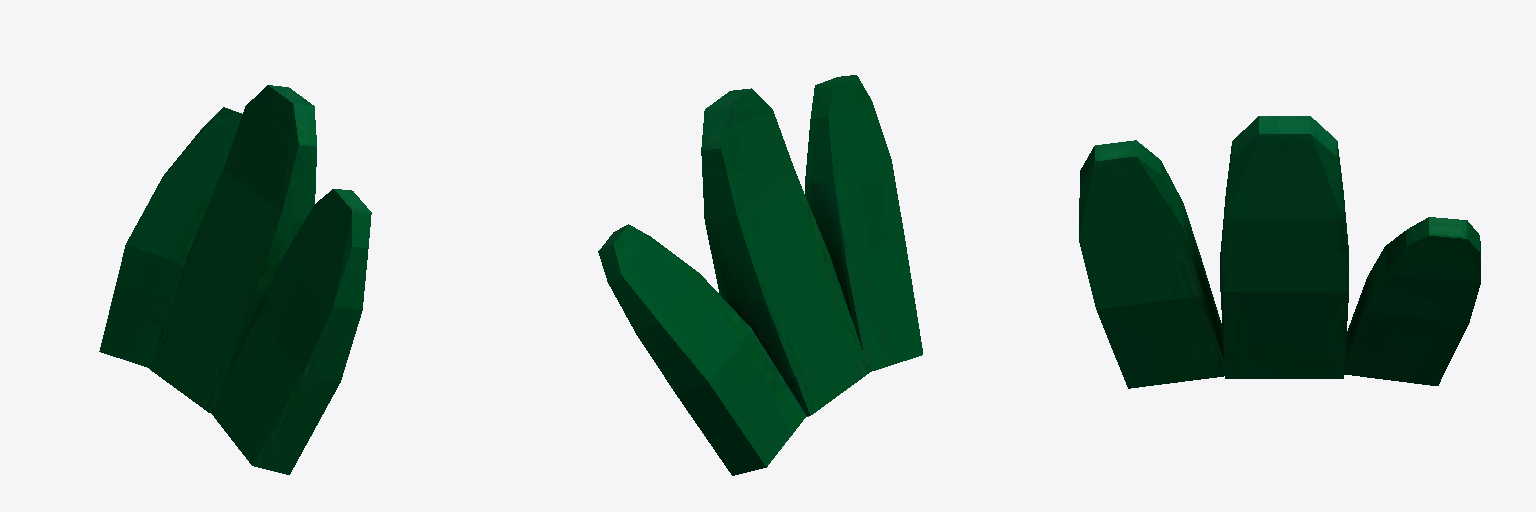
The picture shows the model from 3 angles: view 1: azimuth 30°, elevation 25°; view 2: azimuth 150°, elevation 25°; view 3: azimuth 270°, elevation 25°; orthographic projection.
Visible parts, largest first — view 1: FOL_Grass_01; view 2: FOL_Grass_01; view 3: FOL_Grass_01.
Part boxes in pixels (x1,y1,x2,y2): FOL_Grass_01: (99,85,371,474); FOL_Grass_01: (598,75,922,475); FOL_Grass_01: (1079,116,1480,388).
Bounding box in the file's own units: 0.4443 × 0.8179 × 0.9712.
1 materials, 1 textured.